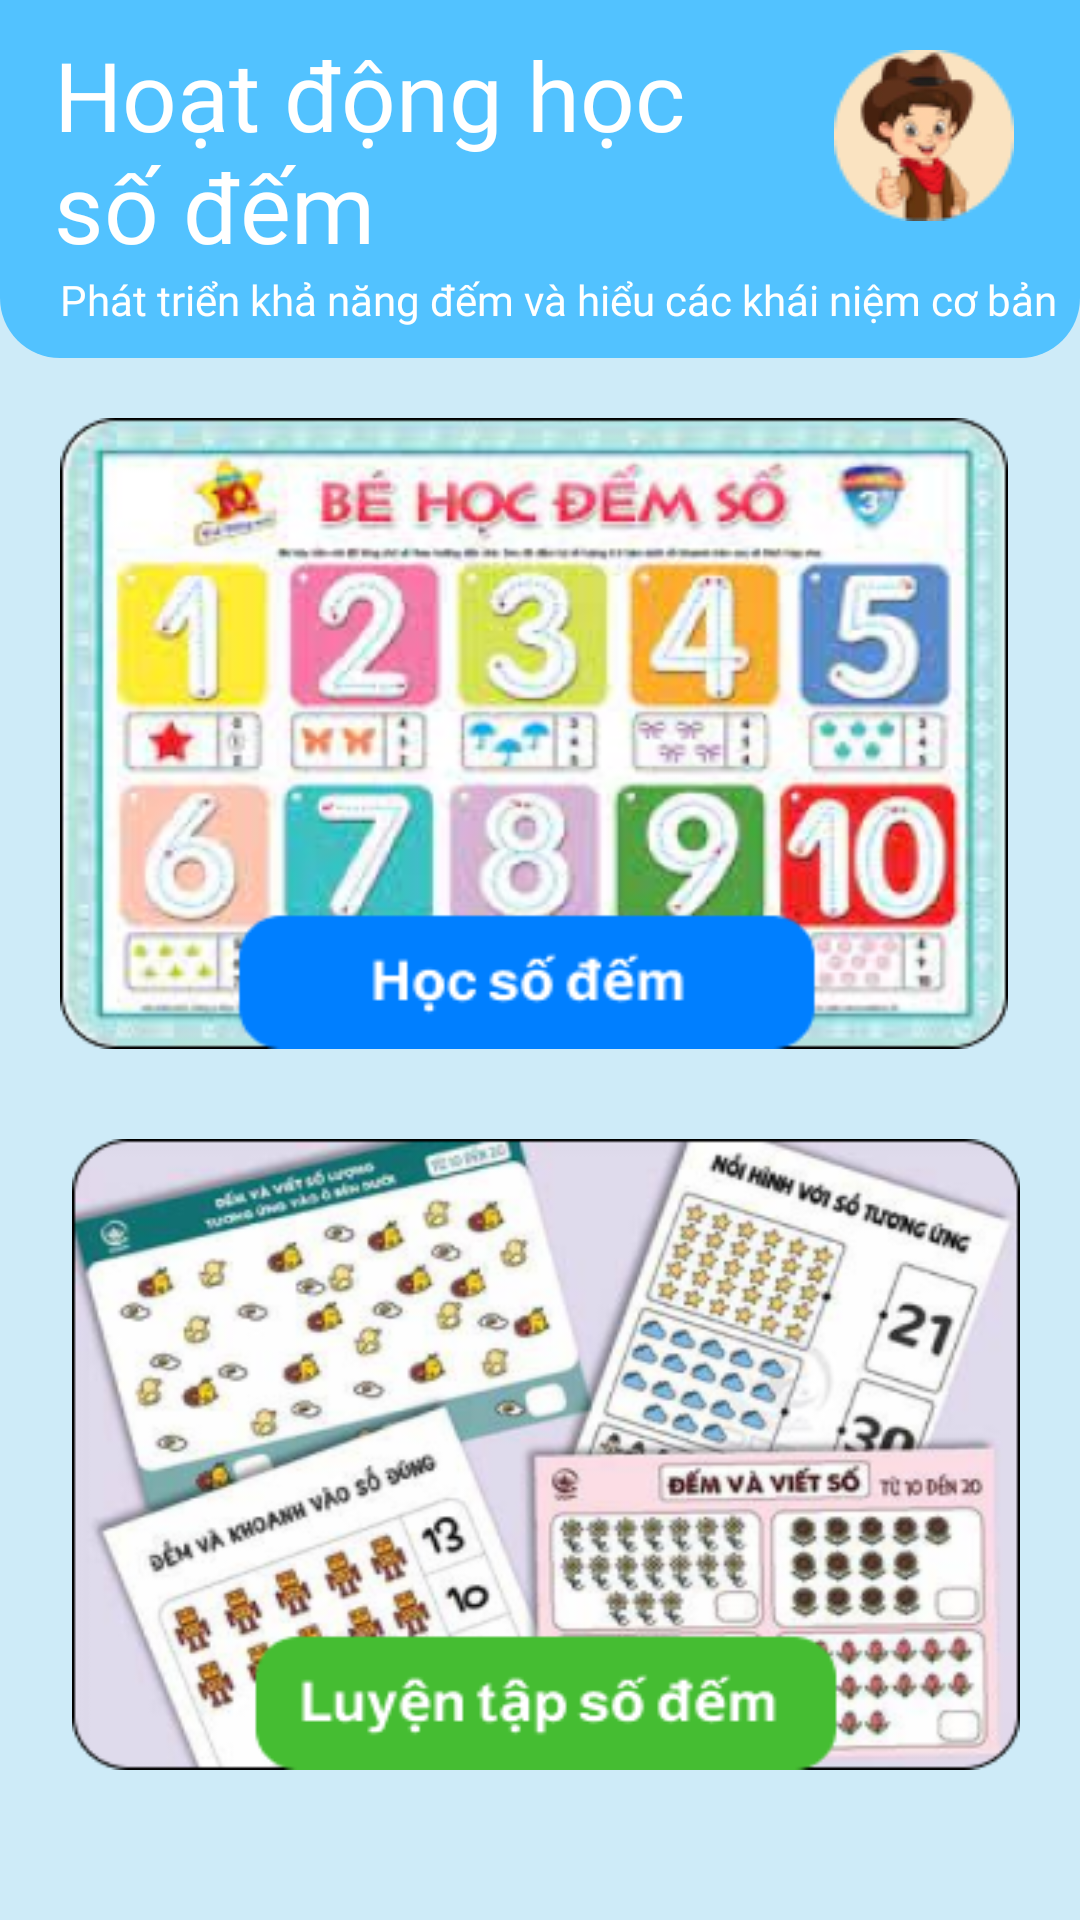

Screen size 1080×1920. Icon name, then its center in pixels as (x=x, y=y):
avata: (x=924, y=135)
